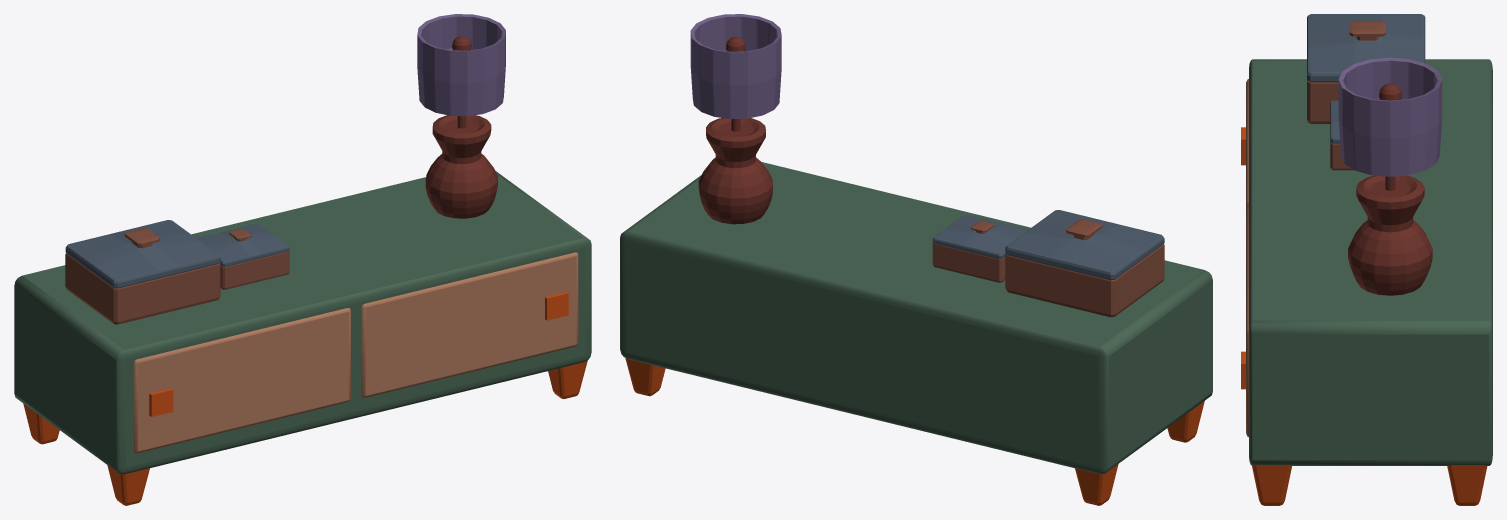
The model's file is platters_diningroom.fbx.
3 views of the same model, side by side, from view 1: azimuth 30°, elevation 25°; view 2: azimuth 150°, elevation 25°; view 3: azimuth 270°, elevation 25° (orthographic). The views are drawn at different scales.
Parts seen in each view (by area): view 1: platters_diningroom, Cube.028, Cube.029, Cube.030, Cube.032, Cube.016, Cube.019; view 2: platters_diningroom, Cube.029, Cube.030, Cube.032, Cube.016, Cube.019; view 3: platters_diningroom, Cube.029, Cube.016, Cube.030, Cube.019, Cube.032, Cube.028.
Part boxes in pixels (left/top/right/bottom): platters_diningroom: left=14, top=171, right=591, bottom=474; Cube.028: left=134, top=252, right=578, bottom=453; Cube.029: left=417, top=14, right=505, bottom=116; Cube.030: left=65, top=220, right=289, bottom=288; Cube.032: left=65, top=228, right=289, bottom=324; Cube.016: left=425, top=36, right=497, bottom=218; Cube.019: left=23, top=292, right=587, bottom=505; platters_diningroom: left=620, top=162, right=1212, bottom=474; Cube.029: left=690, top=14, right=781, bottom=118; Cube.030: left=932, top=210, right=1164, bottom=280; Cube.032: left=932, top=219, right=1164, bottom=317; Cube.016: left=698, top=36, right=772, bottom=224; Cube.019: left=625, top=358, right=1204, bottom=505; platters_diningroom: left=1249, top=59, right=1492, bottom=465; Cube.029: left=1338, top=57, right=1442, bottom=176; Cube.016: left=1348, top=83, right=1432, bottom=295; Cube.030: left=1307, top=14, right=1425, bottom=143; Cube.019: left=1241, top=127, right=1487, bottom=505; Cube.032: left=1307, top=21, right=1385, bottom=170; Cube.028: left=1246, top=79, right=1248, bottom=437.
Bounding box in the file's own units: 196 × 133 × 77.44.
